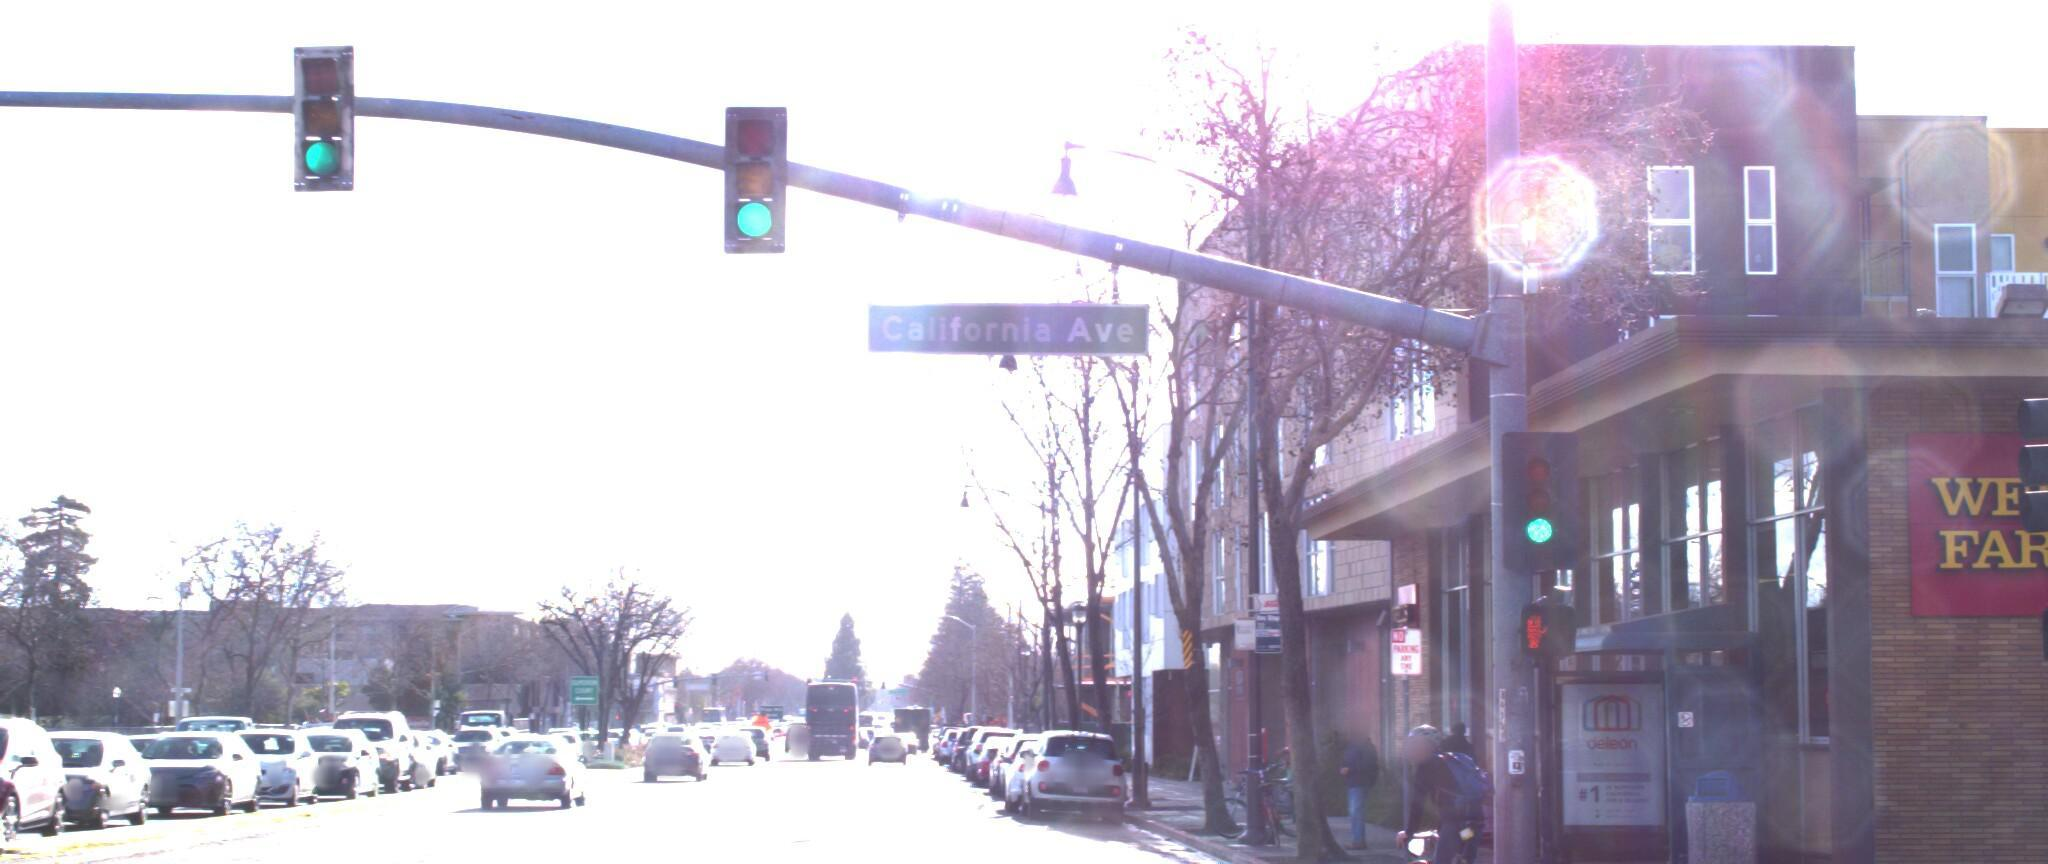bicycle: (1337, 711, 1549, 864)
car: (0, 563, 121, 864), (118, 739, 257, 835), (201, 720, 334, 818), (1021, 719, 1140, 826), (0, 715, 81, 860), (475, 724, 594, 807)
